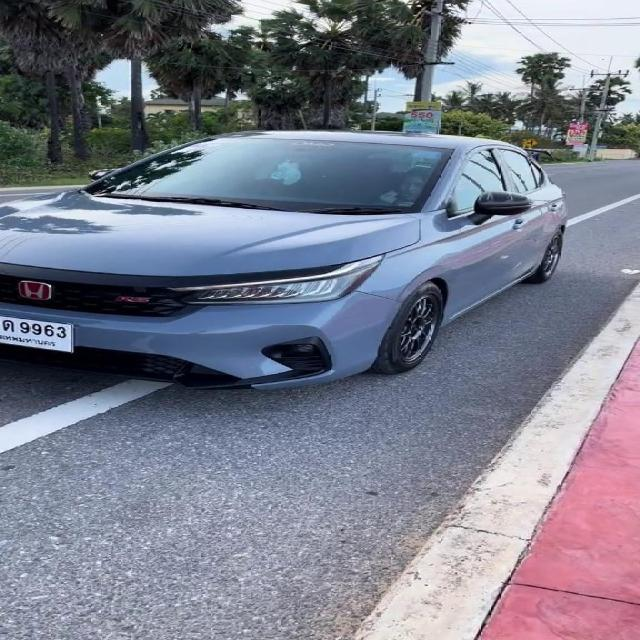Hatchback: (0, 131, 567, 389)
